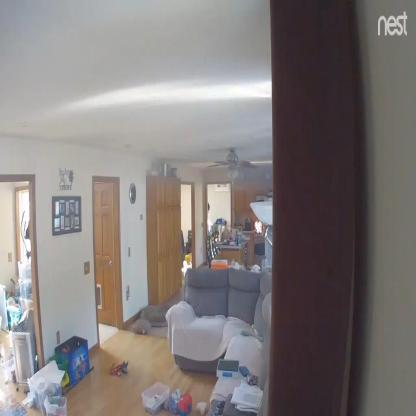fire: (255, 221, 262, 233)
